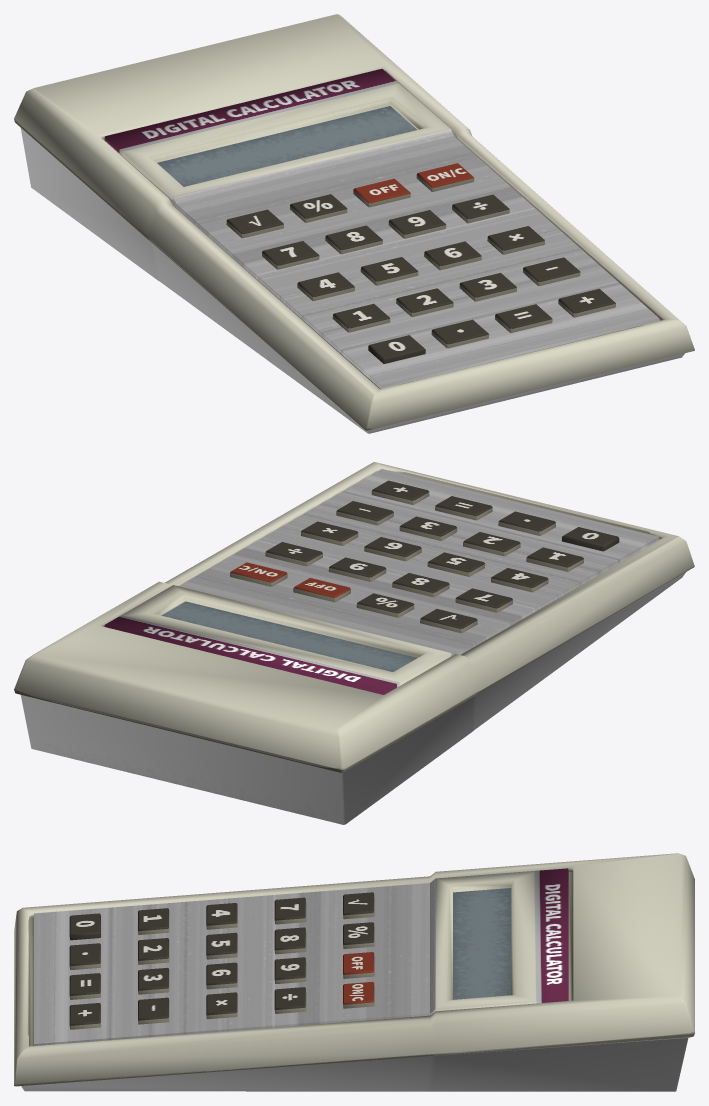
File: Calculator_1982.fbx
3 views of the same model, one above another, from view 1: azimuth 30°, elevation 25°; view 2: azimuth 150°, elevation 25°; view 3: azimuth 270°, elevation 25° (orthographic). The views are drawn at different scales.
Parts seen in each view (by area): view 1: Calculator Body, Button.009, Button.001, Button.013, Button.014, Button.016, Button.002, Button.004, Button.012, Button.017, Button.019, Button.018 (+9 smaller); view 2: Calculator Body, Button.012, Button.017, Button.003, Button.006, Button.009, Button.013, Button, Button.010, Button.014, Button.016, Button.004 (+9 smaller); view 3: Calculator Body, Button.012, Button.013, Button.015, Button.014, Button.010, Button.007, Button.011, Button.016, Button.017, Button.019, Button.005 (+9 smaller).
Part boxes in pixels (x1,y1,x2,y2): Calculator Body: [14, 14, 694, 433]; Button.009: [360, 257, 418, 285]; Button.001: [431, 319, 489, 348]; Button.013: [325, 225, 382, 254]; Button.014: [388, 210, 446, 238]; Button.016: [226, 209, 283, 238]; Button.002: [495, 304, 552, 332]; Button.004: [332, 303, 390, 332]; Button.012: [262, 241, 319, 269]; Button.017: [290, 194, 347, 222]; Button.019: [416, 163, 474, 191]; Button.018: [353, 178, 410, 207]; Calculator Body: [14, 462, 694, 824]; Button.012: [455, 588, 513, 612]; Button.017: [356, 593, 414, 617]; Button.003: [371, 480, 429, 504]; Button.006: [399, 516, 457, 540]; Button.009: [427, 552, 485, 576]; Button.013: [392, 573, 449, 597]; Button: [561, 527, 619, 551]; Button.010: [364, 537, 421, 561]; Button.014: [328, 557, 386, 581]; Button.016: [420, 609, 477, 633]; Button.004: [526, 547, 583, 571]; Calculator Body: [14, 853, 694, 1091]; Button.012: [274, 897, 306, 924]; Button.013: [274, 927, 306, 954]; Button.015: [274, 987, 306, 1013]; Button.014: [274, 957, 306, 983]; Button.010: [206, 962, 237, 989]; Button.007: [138, 997, 169, 1024]; Button.011: [206, 992, 237, 1019]; Button.016: [343, 892, 374, 919]; Button.017: [343, 922, 374, 948]; Button.019: [343, 982, 374, 1008]; Button.005: [138, 938, 169, 964].
Size of the model in its own units: 8.64 by 2.41 by 16.01.
